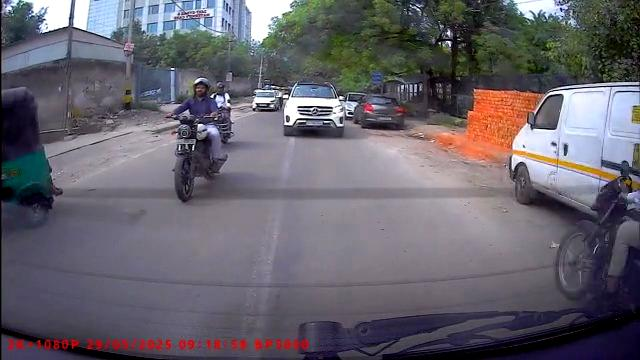motorcycle_with_helmet: (167, 77, 227, 206)
